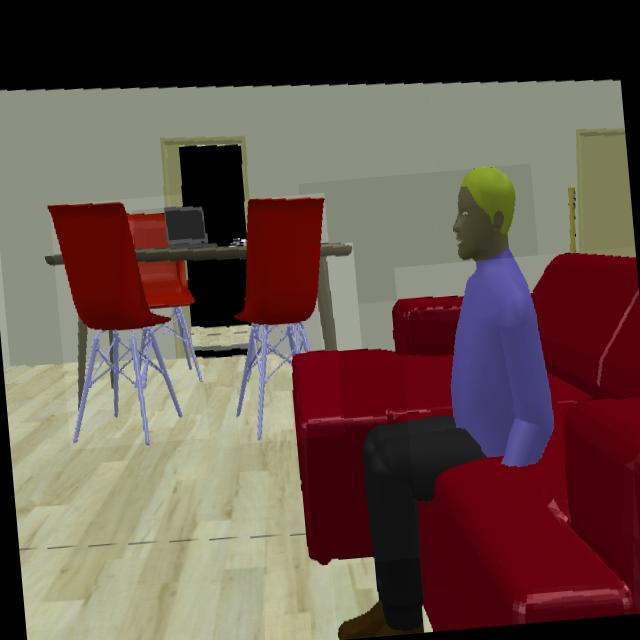chair: (49, 202, 204, 443), (235, 198, 325, 441)
laptop: (165, 207, 207, 248)
person: (337, 169, 552, 639)
sofa: (417, 253, 640, 630), (291, 298, 463, 566)
table: (135, 207, 246, 300), (317, 243, 353, 350)
